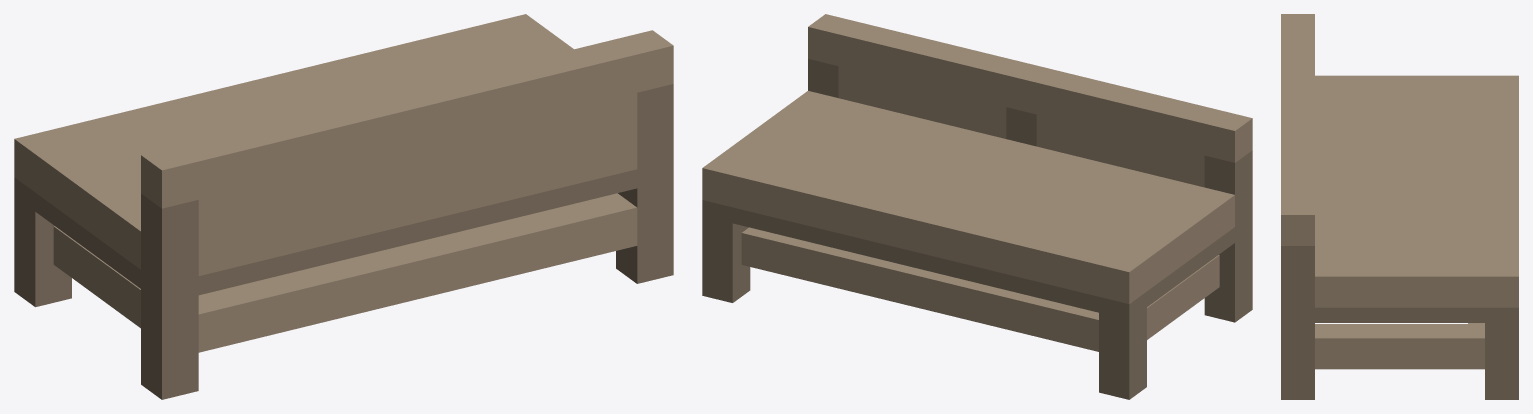
Rendered from banco_regateo_mercado_01.glb.
3 renders of one model, left to right at view 1: azimuth 30°, elevation 25°; view 2: azimuth 150°, elevation 25°; view 3: azimuth 270°, elevation 25°, orthographic. The views are drawn at different scales.
Parts seen in each view (by area): view 1: banco_regateo_mercado; view 2: banco_regateo_mercado; view 3: banco_regateo_mercado.
Boxes of the visible parts, x1,y1,x2,y2 form: banco_regateo_mercado: [14, 14, 673, 399]; banco_regateo_mercado: [702, 14, 1252, 399]; banco_regateo_mercado: [1281, 14, 1518, 399].
Bounding box in the file's own units: 2 × 0.8571 × 1.
